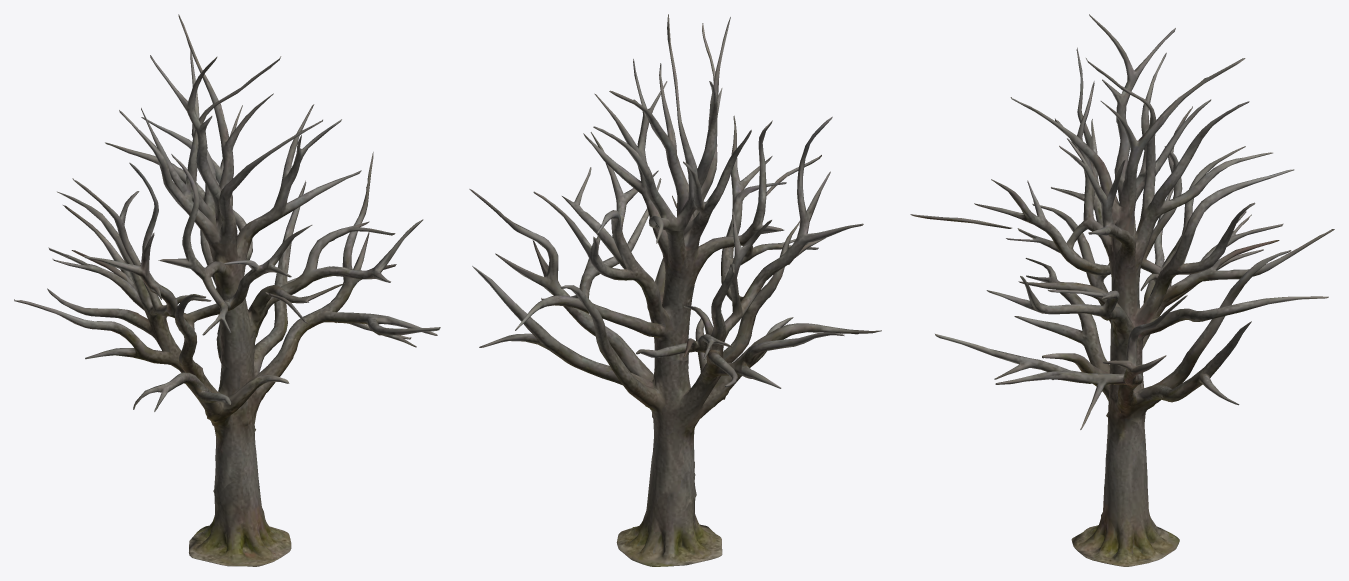
File: tree_street.glb
The picture shows the model from 3 angles, left to right: view 1: azimuth 30°, elevation 25°; view 2: azimuth 150°, elevation 25°; view 3: azimuth 270°, elevation 25°; orthographic projection. The views are drawn at different scales.
Visible parts, largest first — view 1: fit; view 2: fit; view 3: fit.
Part boxes in pixels (x1,y1,x2,y2): fit: [14, 14, 440, 566]; fit: [469, 14, 881, 566]; fit: [910, 14, 1334, 566].
Size of the model in its own units: 6.67 by 9 by 6.79.
Materials: 1 (1 with a texture image).
